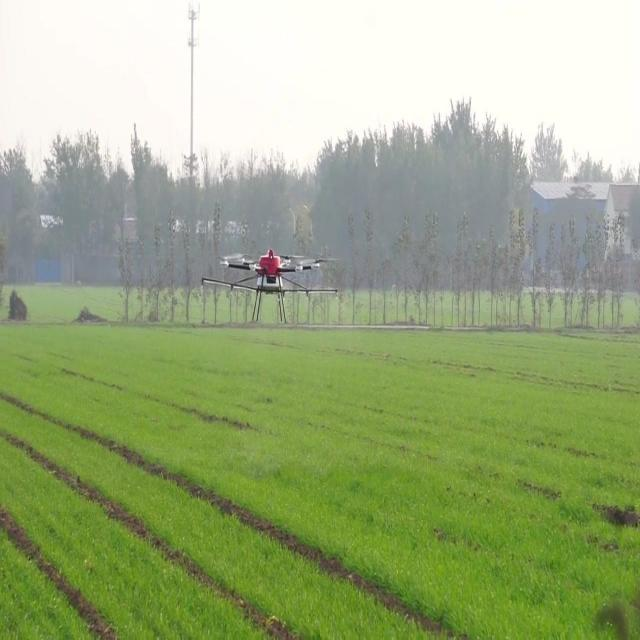UAV: (201, 247, 339, 325)
